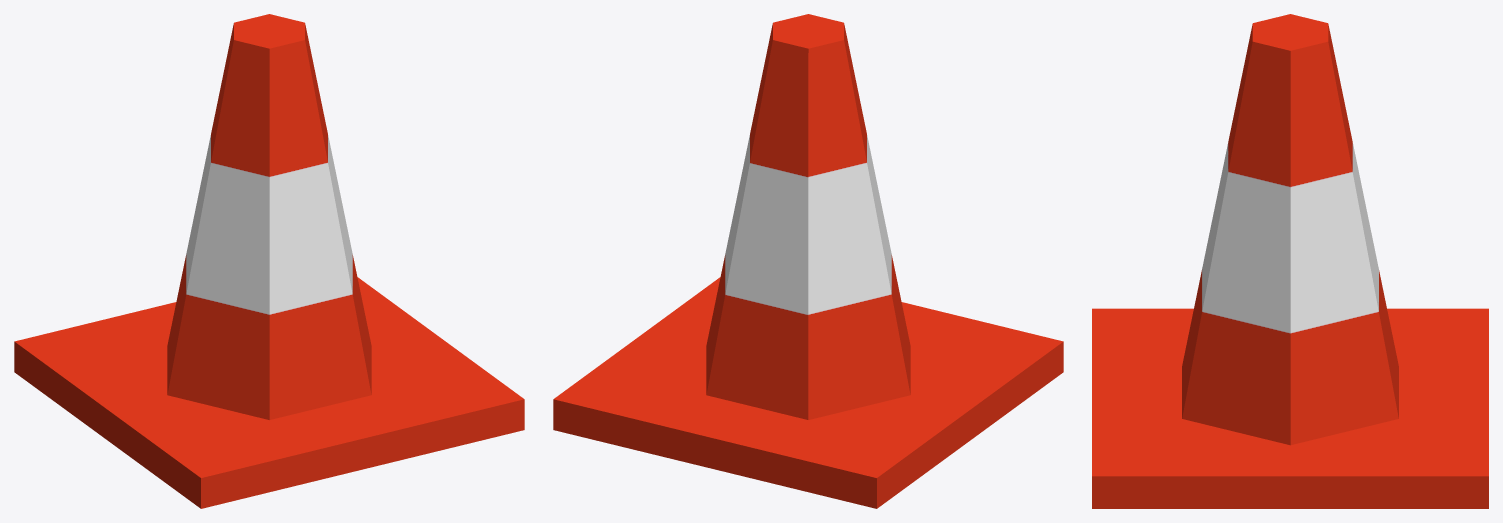
The model's file is Mane.fbx.
The picture shows the model from 3 angles, left to right: view 1: azimuth 30°, elevation 25°; view 2: azimuth 150°, elevation 25°; view 3: azimuth 270°, elevation 25°; orthographic projection. The views are drawn at different scales.
Parts seen in each view (by area): view 1: pCube2; view 2: pCube2; view 3: pCube2.
Part boxes in pixels (x1,y1,x2,y2): pCube2: (14,14,524,508); pCube2: (553,14,1063,508); pCube2: (1092,14,1488,508).
Bounding box in the file's own units: 1.54 × 1.68 × 1.54.
1 material, 1 textured.
